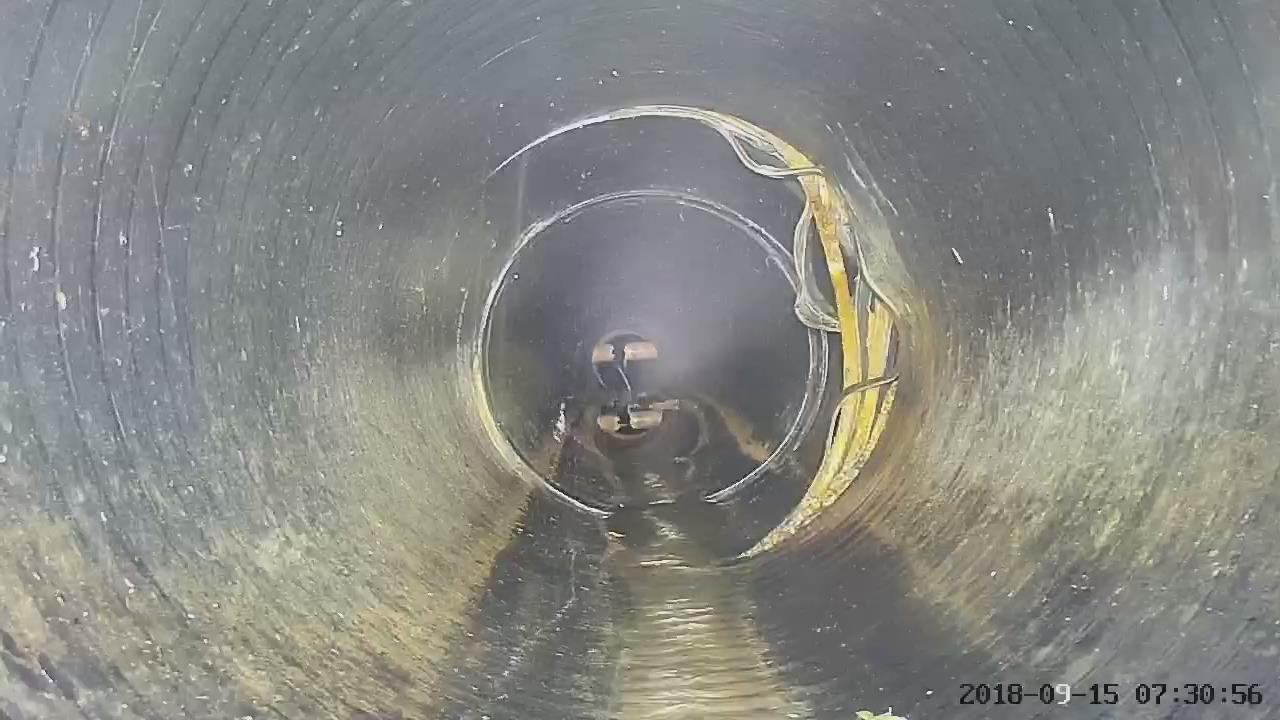JKCL: (465, 88, 944, 573)
